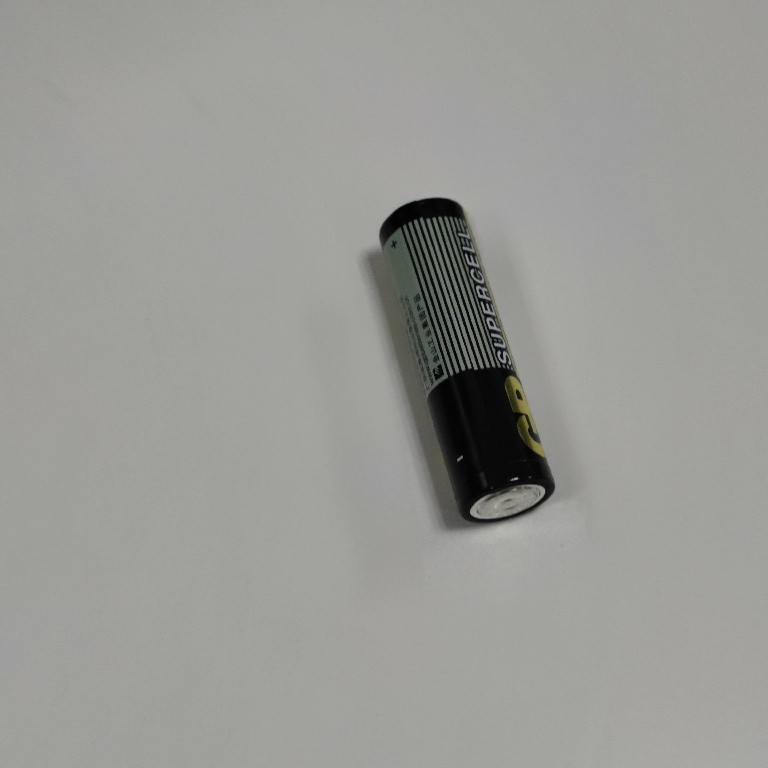charge: (376, 191, 557, 526)
